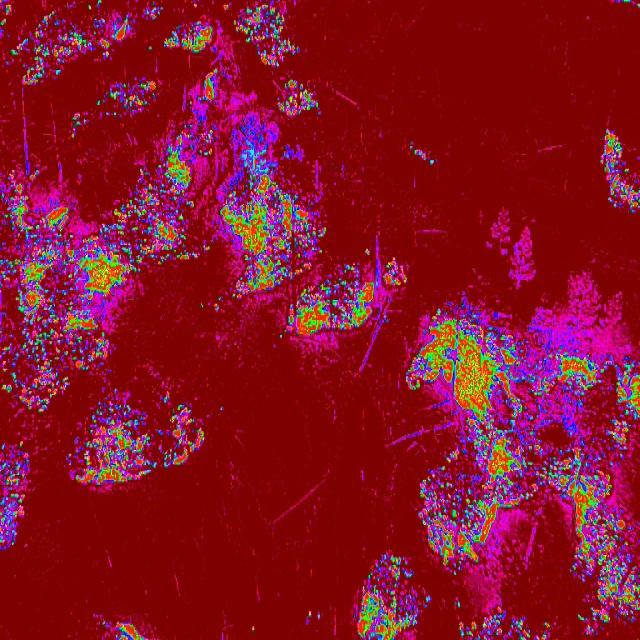fire: (403, 300, 640, 570), (0, 170, 68, 412), (220, 181, 330, 297), (66, 392, 159, 486), (68, 209, 116, 373), (116, 196, 202, 264), (233, 2, 300, 68), (578, 569, 640, 640), (232, 118, 300, 182), (356, 549, 402, 640), (276, 298, 369, 342), (597, 128, 640, 212), (132, 144, 197, 194), (0, 437, 28, 548), (162, 395, 204, 467), (11, 36, 65, 84), (96, 76, 159, 116), (161, 17, 215, 53), (329, 258, 375, 300), (278, 80, 324, 118), (84, 0, 132, 36), (402, 567, 422, 640), (458, 611, 506, 640), (33, 8, 77, 34), (98, 617, 147, 640), (65, 34, 114, 57), (505, 617, 552, 640), (408, 138, 436, 170), (384, 257, 412, 288), (178, 124, 215, 141), (116, 264, 142, 288), (202, 69, 220, 102), (68, 112, 86, 136), (0, 0, 14, 28), (142, 0, 160, 21), (198, 146, 214, 159), (612, 0, 640, 6), (305, 610, 314, 626), (362, 246, 374, 256), (146, 42, 156, 52), (424, 594, 430, 610), (455, 600, 464, 610), (214, 300, 222, 311), (199, 300, 207, 310), (218, 404, 224, 414), (316, 612, 322, 622), (250, 624, 257, 632), (224, 3, 230, 11), (187, 100, 194, 105)
